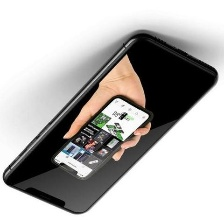phone: (1, 26, 220, 217)
